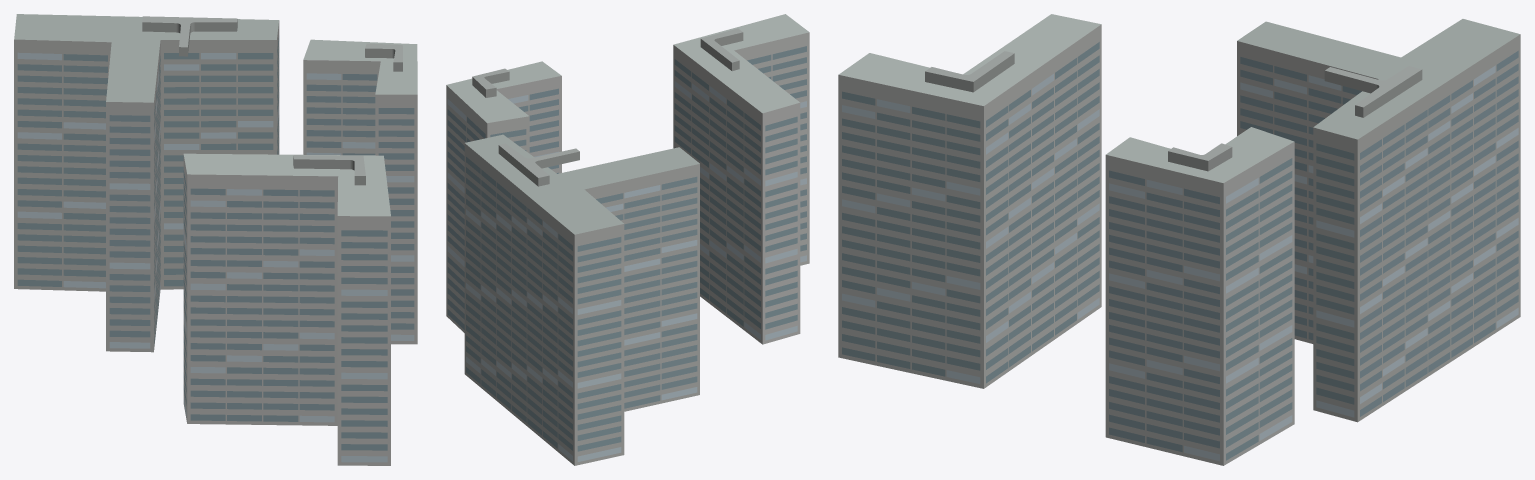
Rendered from apt-a13085901.glb.
3 renders of one model, left to right at view 1: azimuth 30°, elevation 25°; view 2: azimuth 150°, elevation 25°; view 3: azimuth 270°, elevation 25°, orthographic. The views are drawn at different scales.
Parts seen in each view (by area): view 1: apt-a13085901; view 2: apt-a13085901; view 3: apt-a13085901.
Part boxes in pixels (x1,y1,x2,y2): apt-a13085901: (14, 14, 417, 465); apt-a13085901: (446, 14, 809, 465); apt-a13085901: (838, 14, 1520, 465).
Size of the model in its own units: 82.93 by 67 by 141.
